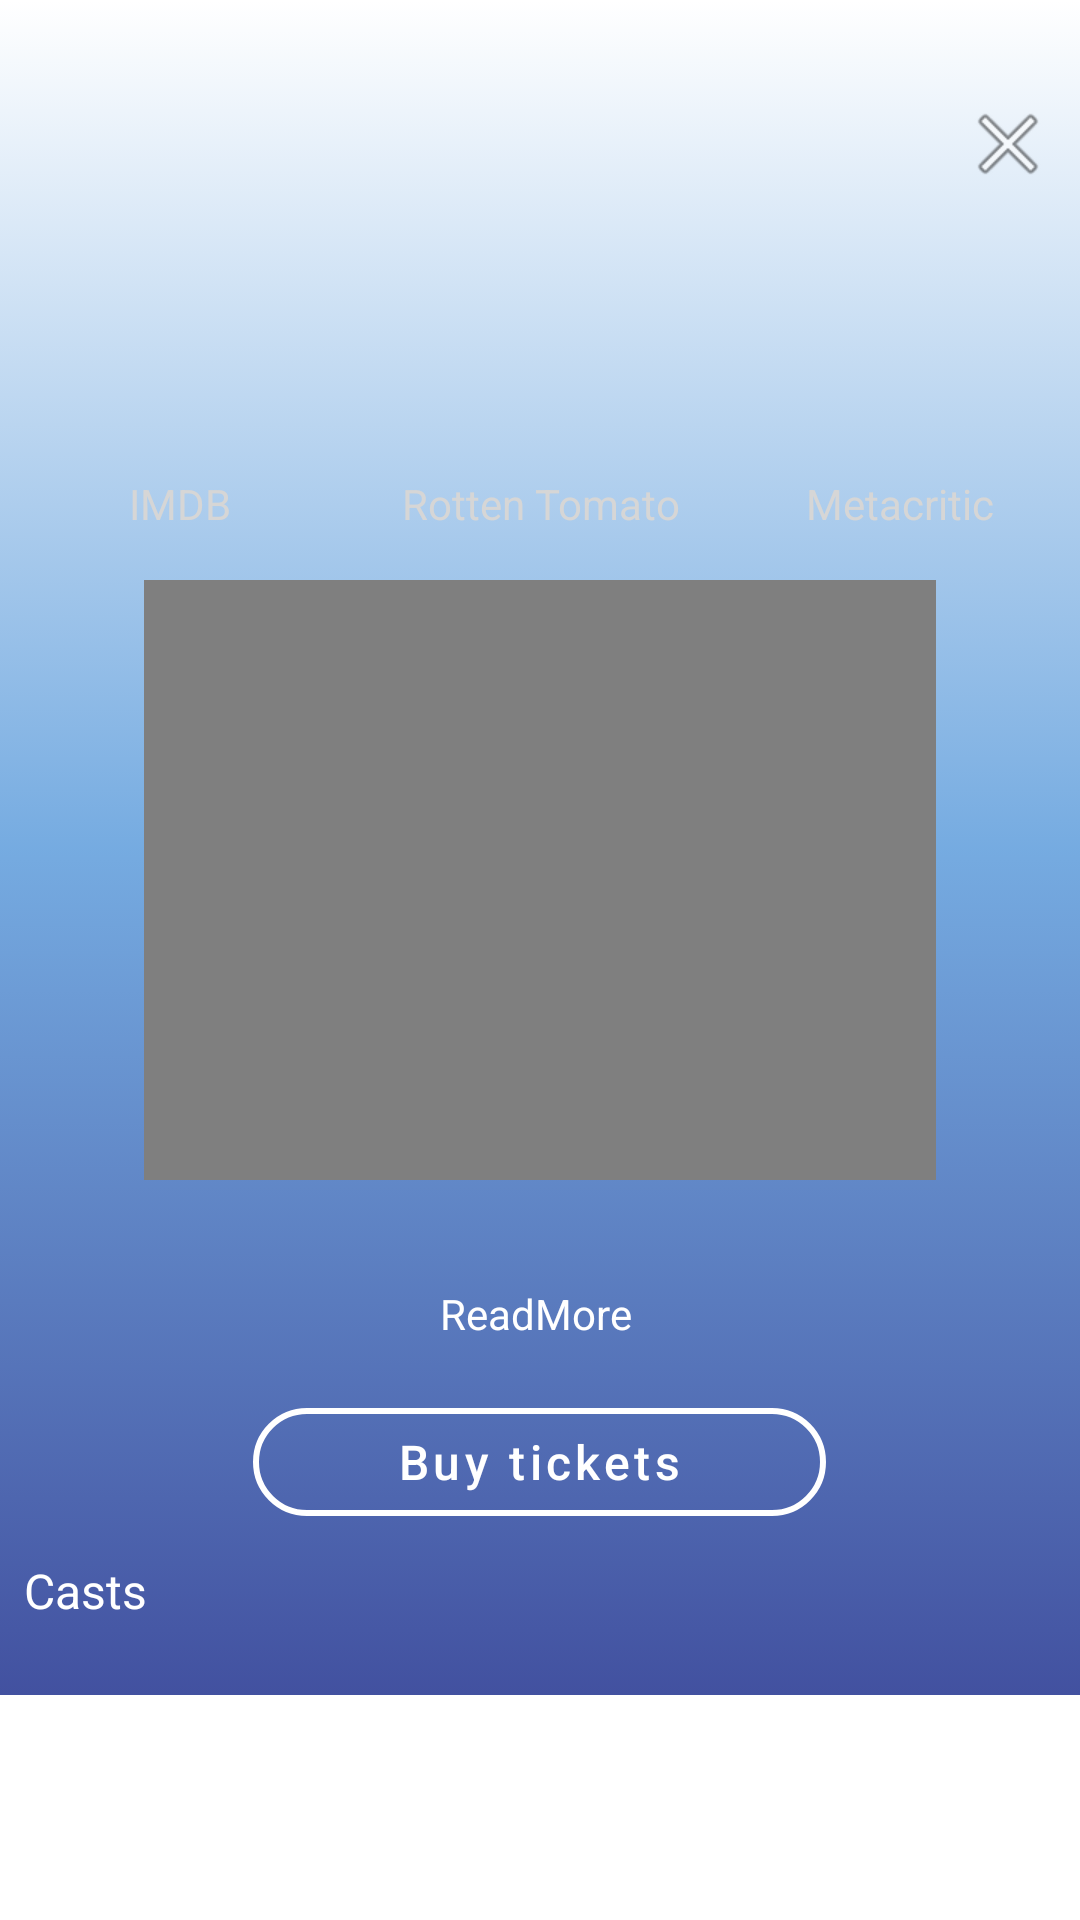

Named icons in this screenshot (1080×1920) and their centers, (x,y):
close clear cancel: (1008,144)
